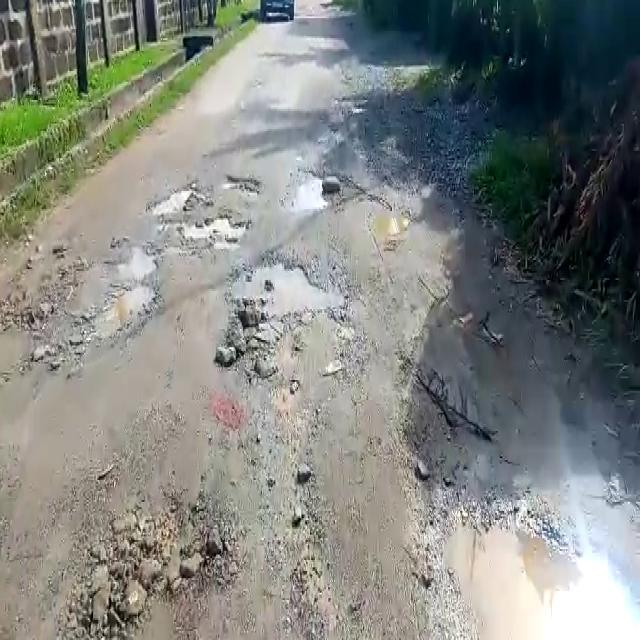Pothole: (432, 496, 640, 640), (231, 258, 349, 317), (91, 285, 158, 341), (74, 240, 161, 282), (283, 170, 337, 216), (174, 212, 247, 245), (147, 182, 197, 220), (222, 171, 263, 195)
